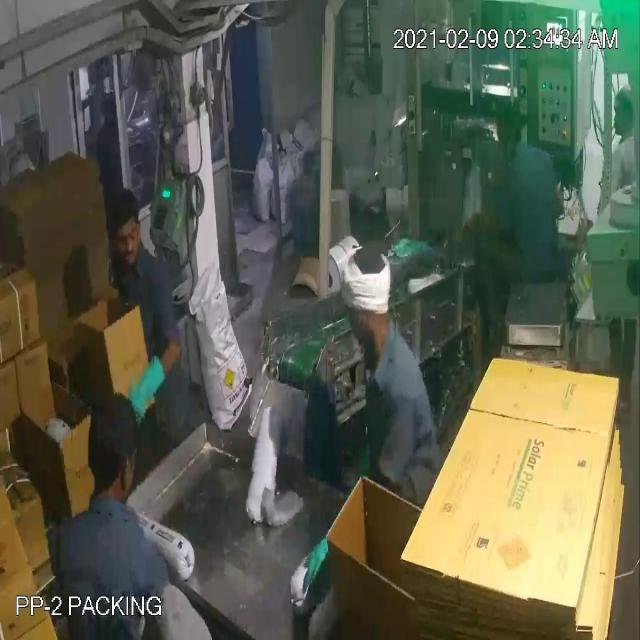Gloves: (56, 84, 321, 562)
